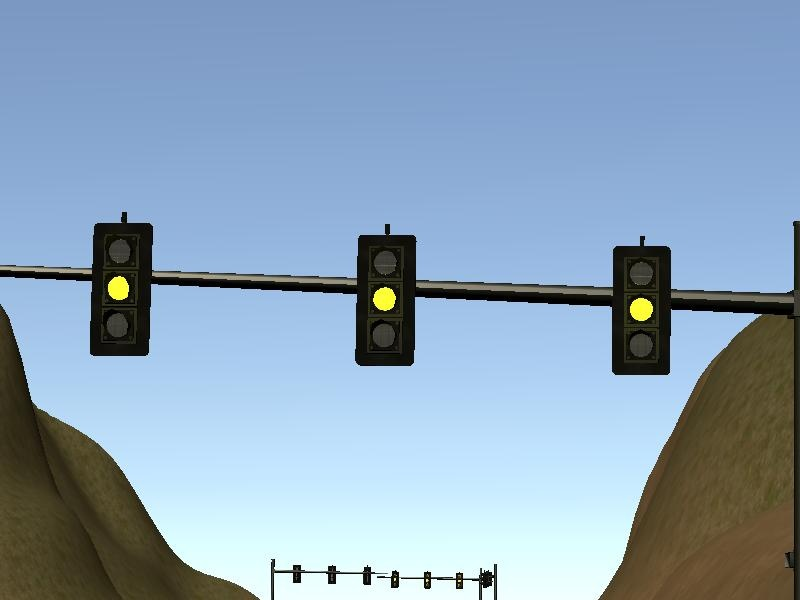YELLOW: (85, 223, 151, 355), (349, 233, 415, 365), (606, 243, 672, 375)
